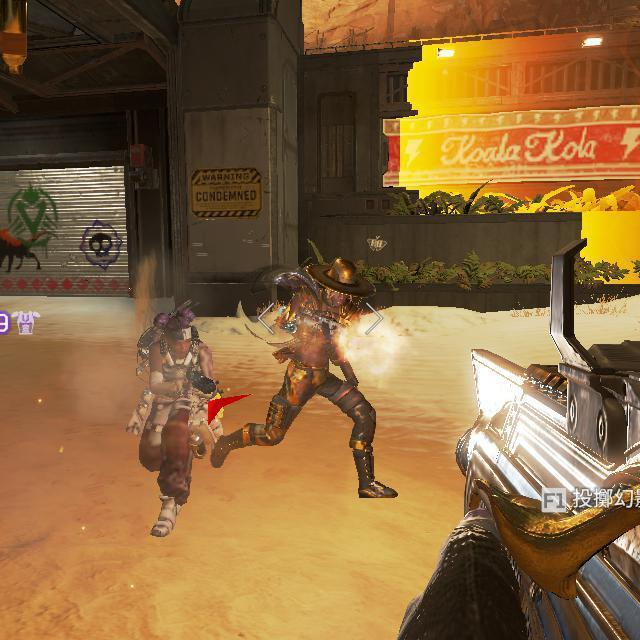avatar: (262, 253, 379, 498), (129, 307, 217, 542)
